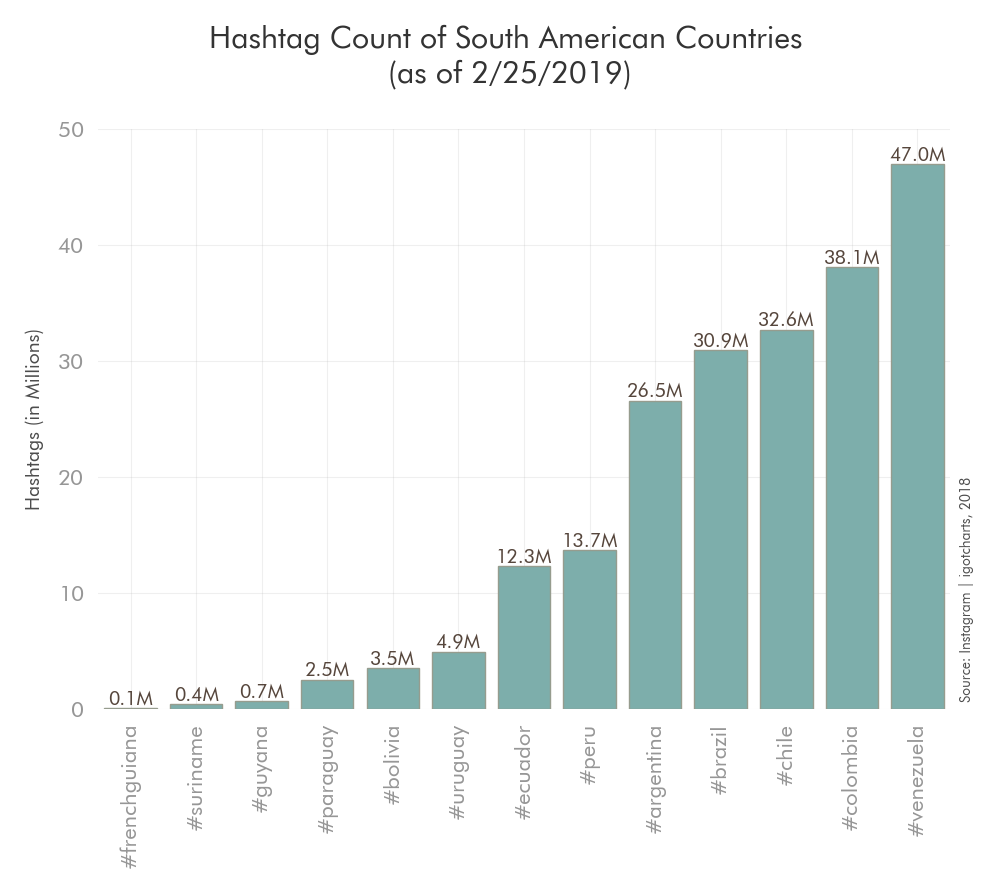

This screenshot's page, from the dashboard's own definition file:
{"tool":"tableau","page":{"name":"Dashboard 1","canvas":[1000,700],"ordinal":0},"visuals":[{"type":"worksheet","title":"Sheet 1","mark":"Shape","rows":["Function"],"cols":["Chart Type"],"box":[7,10,934,584]},{"type":"worksheet","title":"column totals","mark":"Automatic","cols":["Chart Type"],"box":[166,608,777,31]}]}

Visuals, with their boxes on the page's 1000x700 design canvas (x1, y1, x2, y2). These are canvas units, not pixel positions in the 998x893 screenshot, which may show the page scaled, cropped or inside an application window:
"Sheet 1" worksheet (Shape marks): detection(7, 10, 941, 594)
"column totals" worksheet: detection(166, 608, 943, 639)
